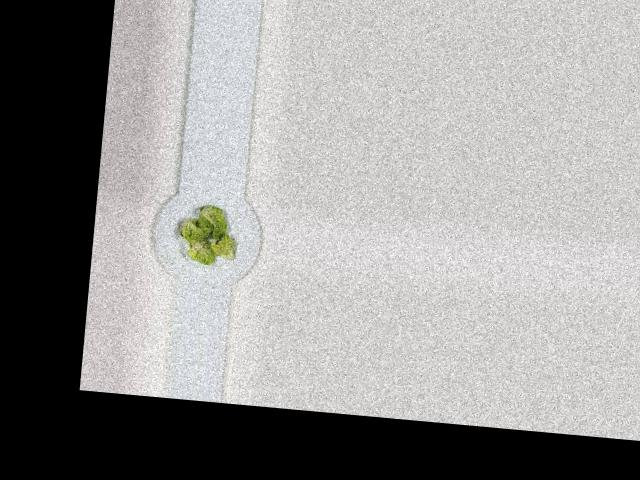lettuce: (174, 197, 241, 266)
